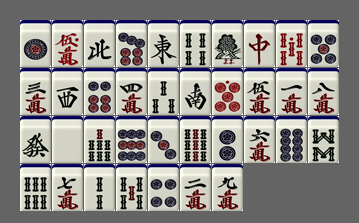0m: (52, 20, 83, 67)
0p: (212, 68, 243, 115)
0s: (276, 20, 307, 67)
1m: (276, 68, 307, 115)
1p: (20, 20, 51, 67)
1s: (212, 20, 243, 67)
1z: (148, 20, 179, 67)
2m: (180, 164, 211, 211)
2p: (212, 116, 243, 163)
2s: (84, 164, 115, 211)
2z: (180, 68, 211, 115)
3m: (20, 68, 51, 115)
3p: (148, 116, 179, 163)
3s: (148, 68, 179, 115)
3z: (52, 68, 83, 115)
4m: (116, 68, 147, 115)
4p: (148, 164, 179, 211)
4s: (180, 20, 211, 67)
4z: (84, 20, 115, 67)
5m: (244, 68, 275, 115)
5p: (308, 20, 339, 67)
5s: (116, 164, 147, 211)
5z: (52, 116, 83, 163)
6m: (244, 116, 275, 163)
6p: (84, 68, 115, 115)
6s: (20, 164, 51, 211)
6z: (20, 116, 51, 163)
7m: (52, 164, 83, 211)
7p: (116, 20, 147, 67)
7s: (84, 116, 115, 163)
7z: (244, 20, 275, 67)
8m: (308, 68, 339, 115)
8p: (276, 116, 307, 163)
8s: (308, 116, 339, 163)
9m: (212, 164, 243, 211)
9p: (116, 116, 147, 163)
9s: (180, 116, 211, 163)
